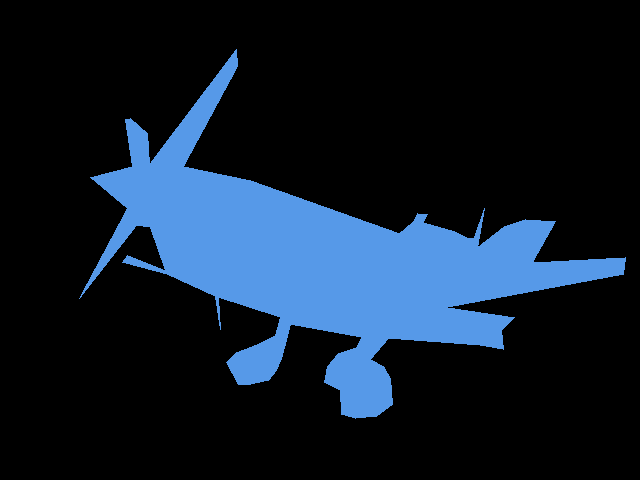Airplane: (79, 49, 626, 419)
